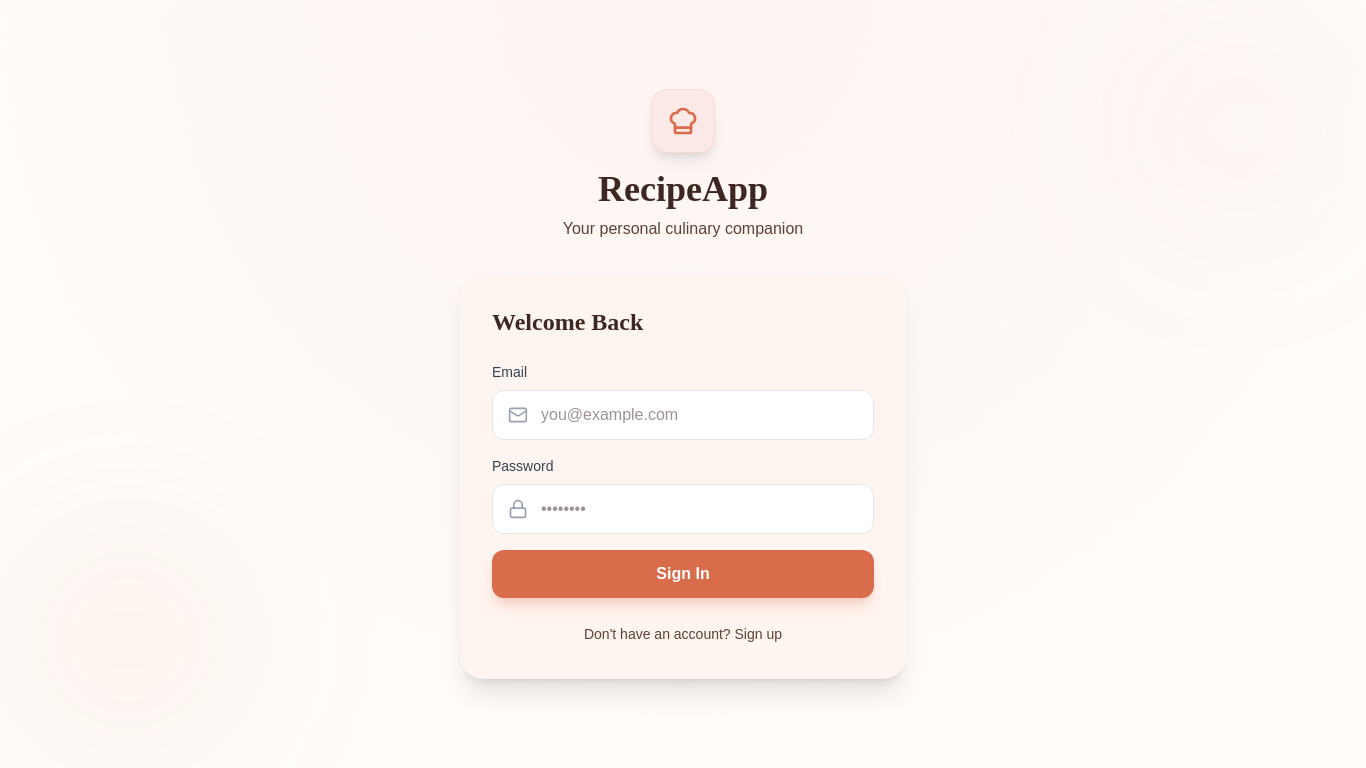
AuthForm › should toggle back to sign in form
Click the button "Don't have an account? Sign up": [683, 634] box [584,624,782,644]
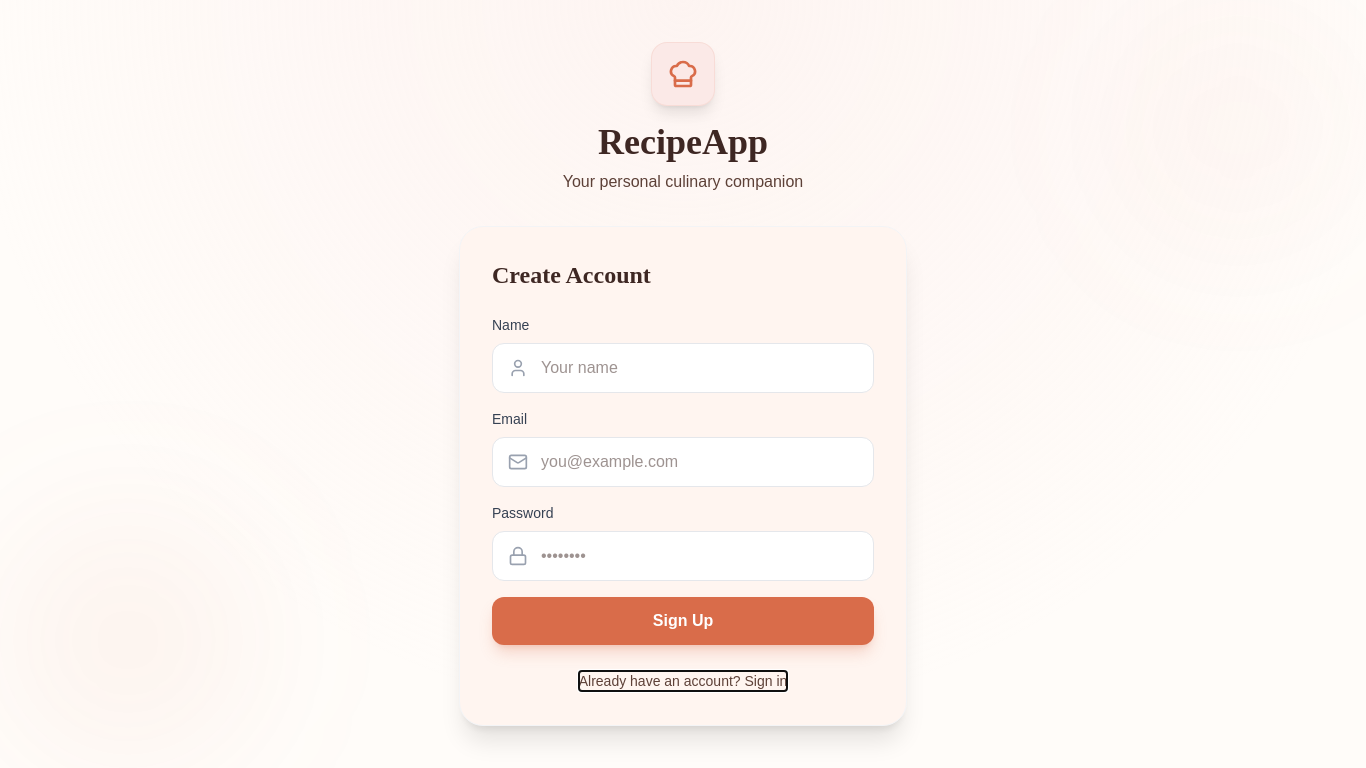
Click the button "Already have an account? Sign in": [683, 681] box [579,671,787,691]
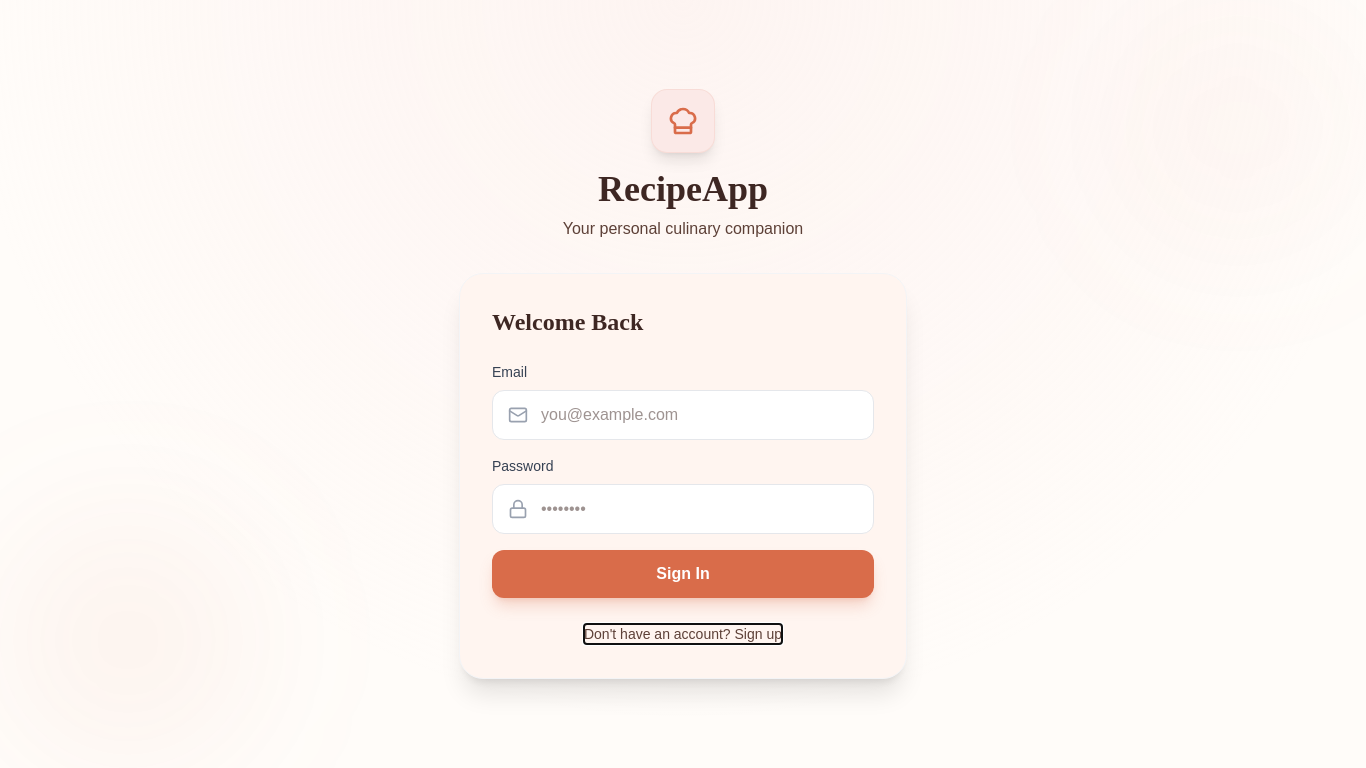
Expected: the heading "Welcome Back" is shown, [492,309,643,335]
